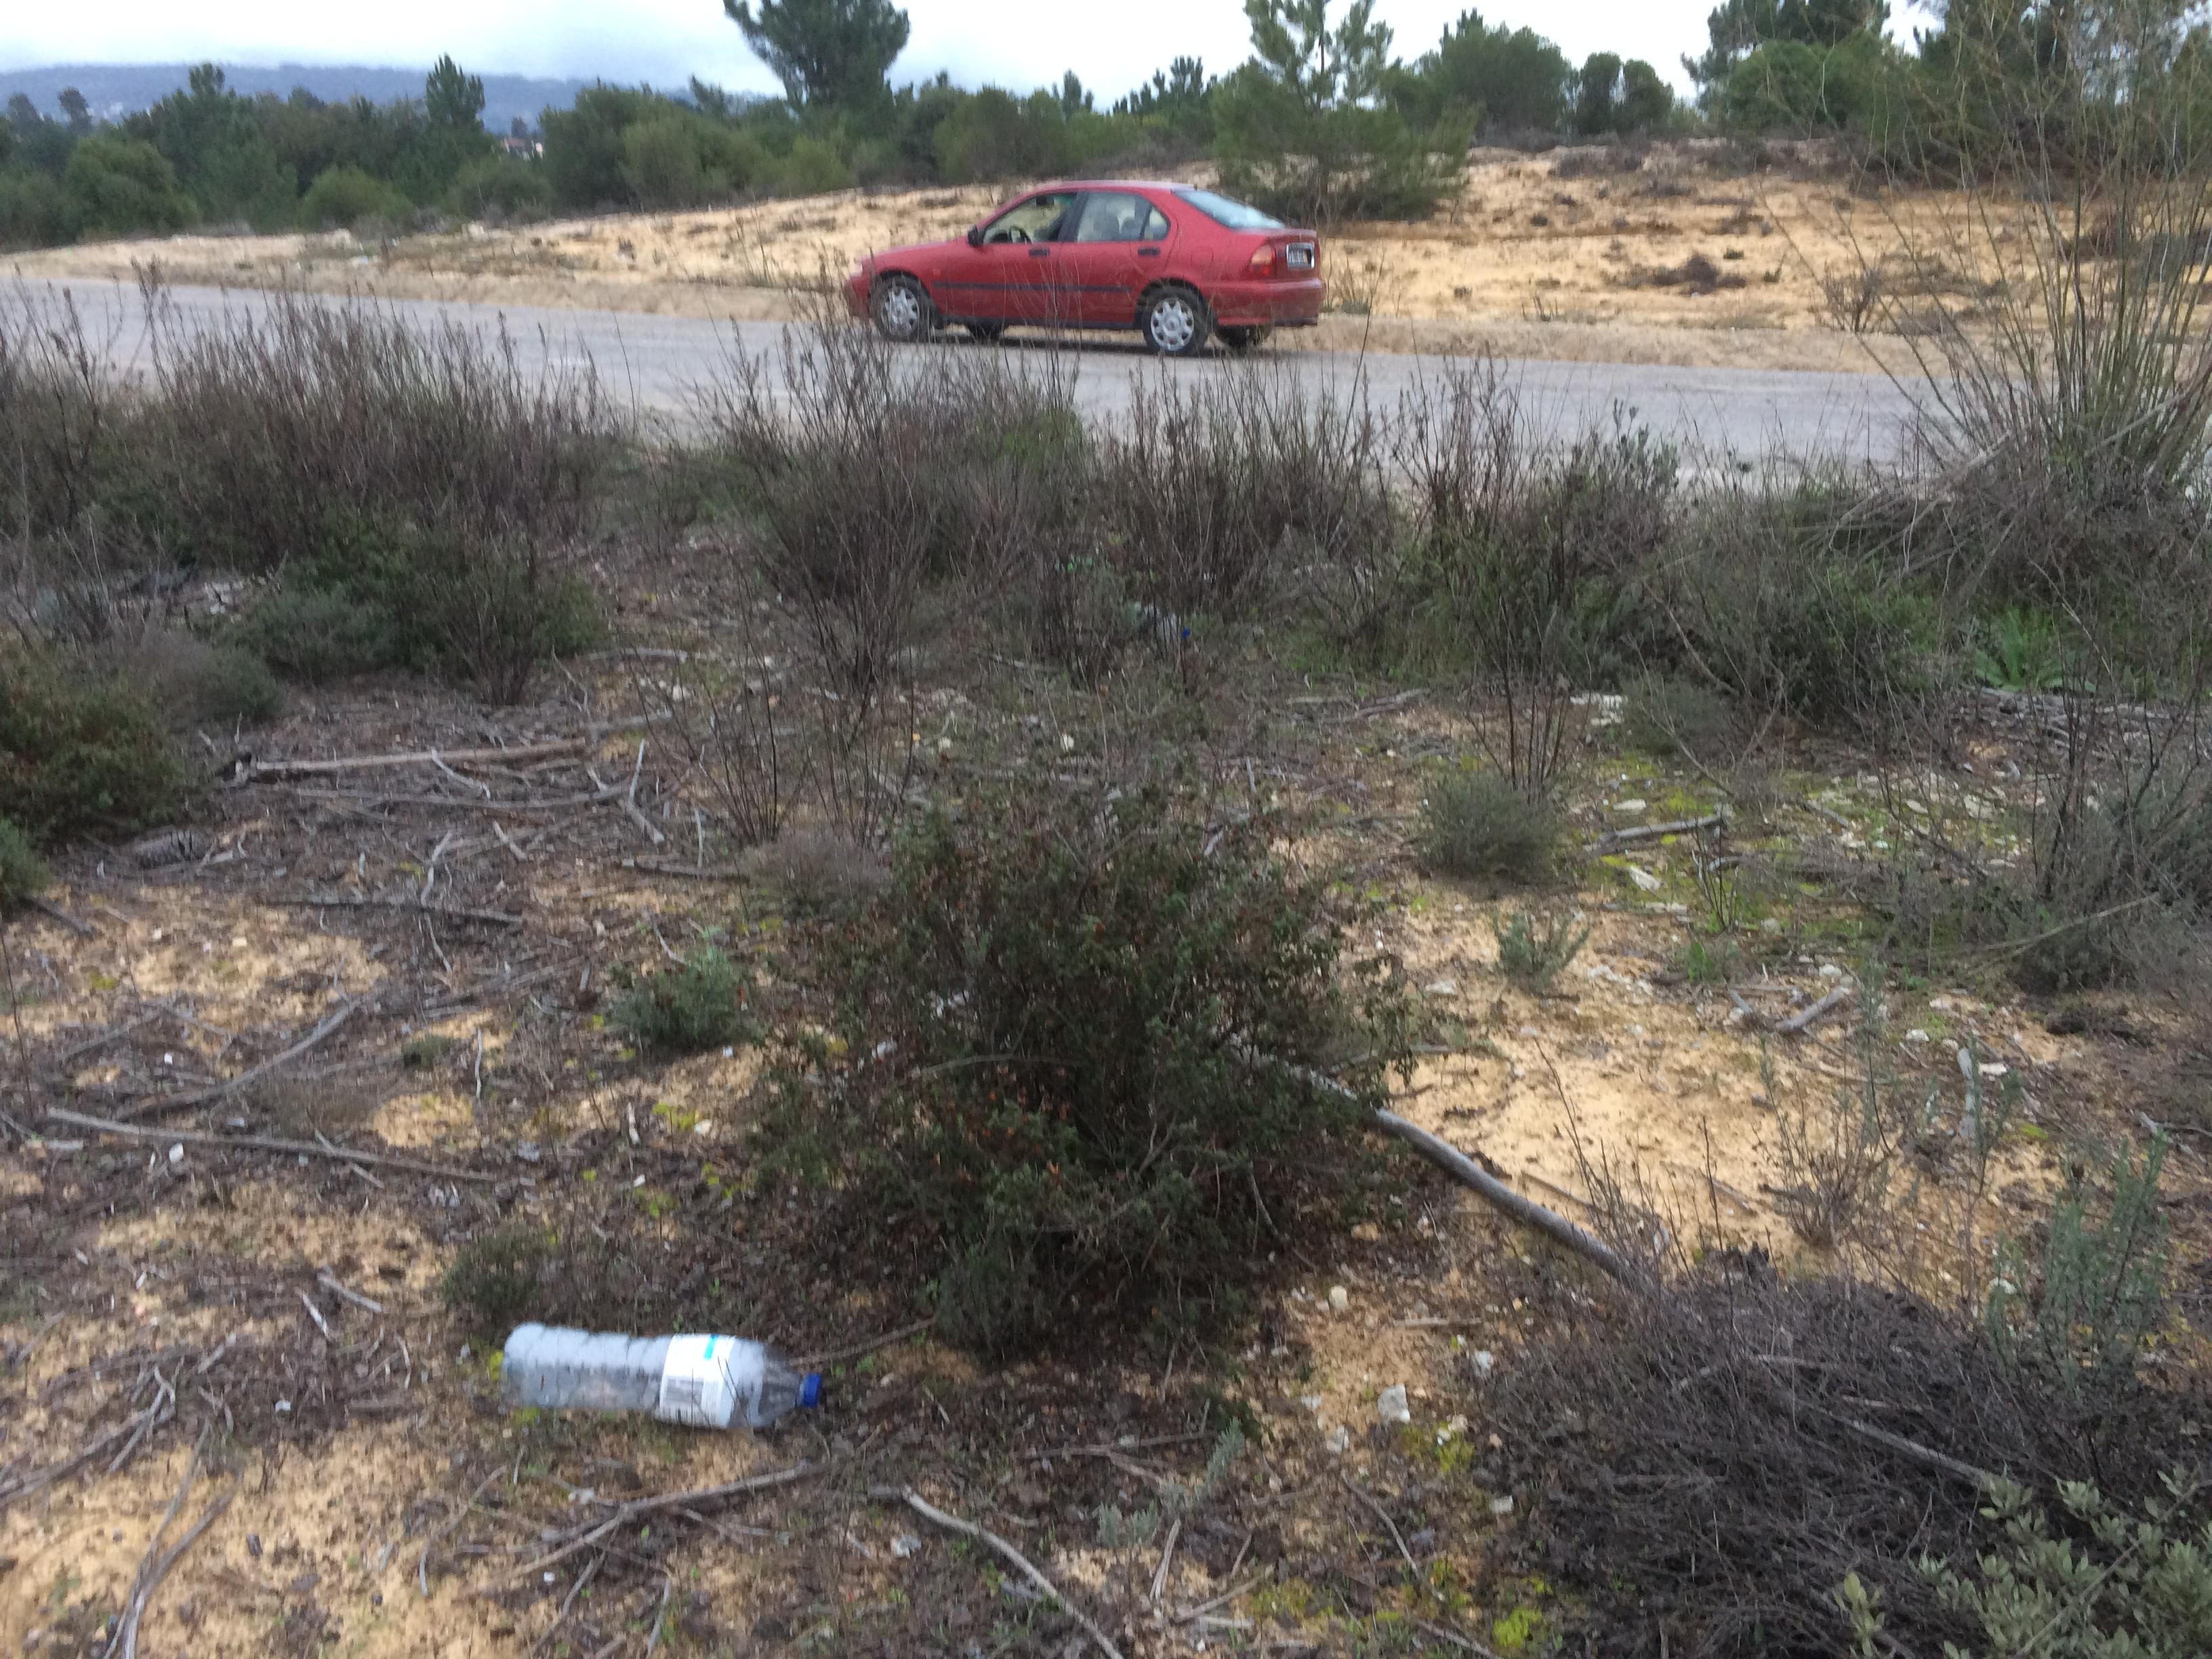Trash: (502, 1312, 820, 1436)
